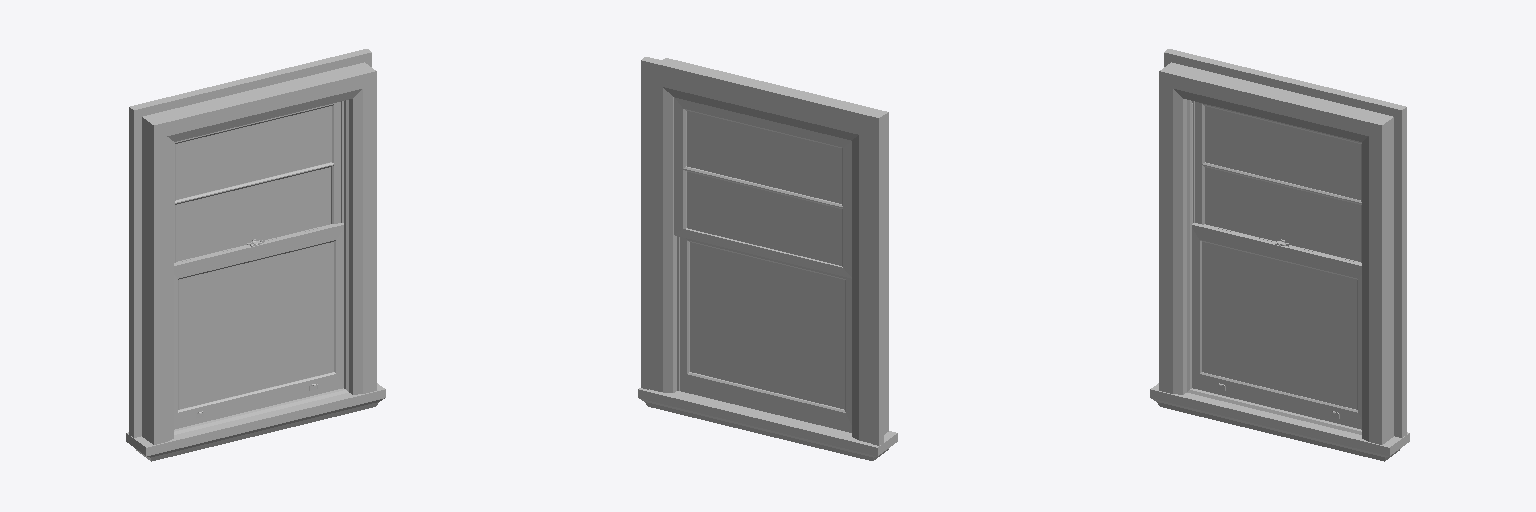
File: Window.obj
3 renders of one model, left to right at view 1: azimuth 30°, elevation 25°; view 2: azimuth 150°, elevation 25°; view 3: azimuth 330°, elevation 25°, orthographic.
Visible parts, largest first — view 1: SM_Window_01aCUNT, SM_Glass_DownCUNT, SM_Glass_TopCUNT, SM_Window_01cCUNT, SM_Window_01bCUNT; view 2: SM_Window_01aCUNT, SM_Glass_DownCUNT, SM_Glass_TopCUNT, SM_Window_01bCUNT, SM_Window_01cCUNT; view 3: SM_Window_01aCUNT, SM_Glass_DownCUNT, SM_Glass_TopCUNT, SM_Window_01cCUNT, SM_Window_01bCUNT.
Boxes of the visible parts, x1=… form: SM_Window_01aCUNT: x1=126, y1=49, x2=385, y2=461; SM_Glass_DownCUNT: x1=179, y1=242, x2=333, y2=409; SM_Glass_TopCUNT: x1=176, y1=106, x2=331, y2=261; SM_Window_01cCUNT: x1=174, y1=223, x2=343, y2=429; SM_Window_01bCUNT: x1=174, y1=102, x2=340, y2=262; SM_Window_01aCUNT: x1=638, y1=57, x2=897, y2=460; SM_Glass_DownCUNT: x1=690, y1=242, x2=844, y2=409; SM_Glass_TopCUNT: x1=687, y1=111, x2=841, y2=265; SM_Window_01bCUNT: x1=674, y1=97, x2=851, y2=278; SM_Window_01cCUNT: x1=680, y1=237, x2=851, y2=432; SM_Window_01aCUNT: x1=1150, y1=49, x2=1409, y2=461; SM_Glass_DownCUNT: x1=1202, y1=242, x2=1356, y2=409; SM_Glass_TopCUNT: x1=1205, y1=106, x2=1360, y2=261; SM_Window_01cCUNT: x1=1192, y1=223, x2=1361, y2=429; SM_Window_01bCUNT: x1=1195, y1=102, x2=1361, y2=262.
Size of the model in its own units: 0.9629 by 1.33 by 0.1407.